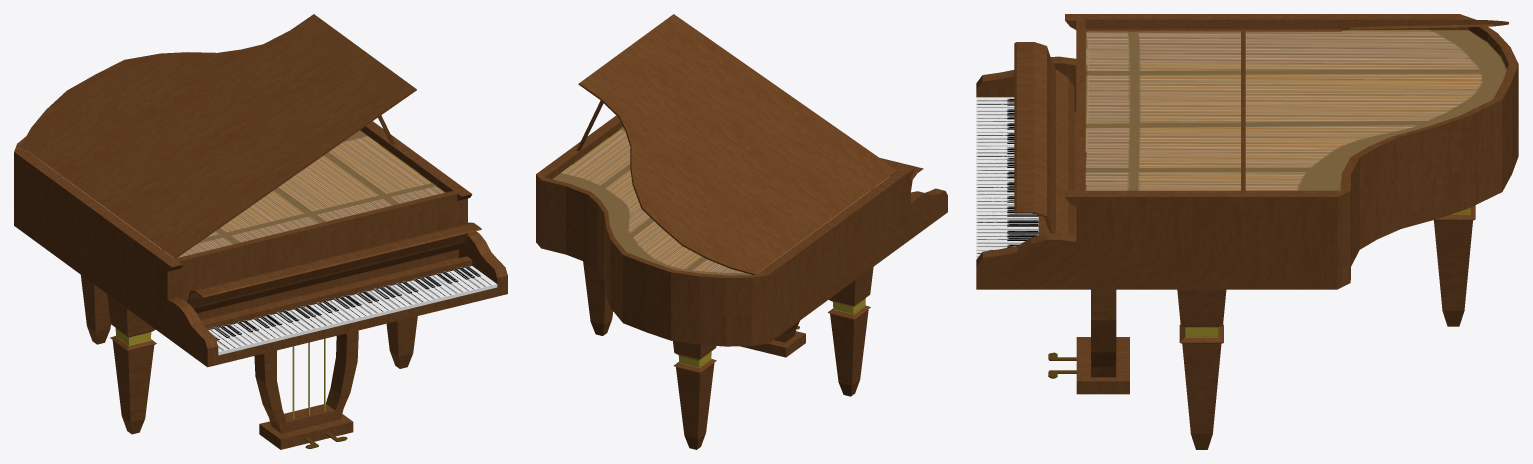
Rendered from piano.fbx.
The picture shows the model from 3 angles, left to right: view 1: azimuth 30°, elevation 25°; view 2: azimuth 150°, elevation 25°; view 3: azimuth 270°, elevation 25°; orthographic projection. The views are drawn at different scales.
Parts seen in each view (by area): view 1: Piano; view 2: Piano; view 3: Piano.
Part boxes in pixels (x1=…): Piano: x1=14, y1=14, x2=507, y2=449; Piano: x1=536, y1=14, x2=947, y2=449; Piano: x1=976, y1=14, x2=1518, y2=449.
Bounding box in the file's own units: 160 × 165 × 200.
